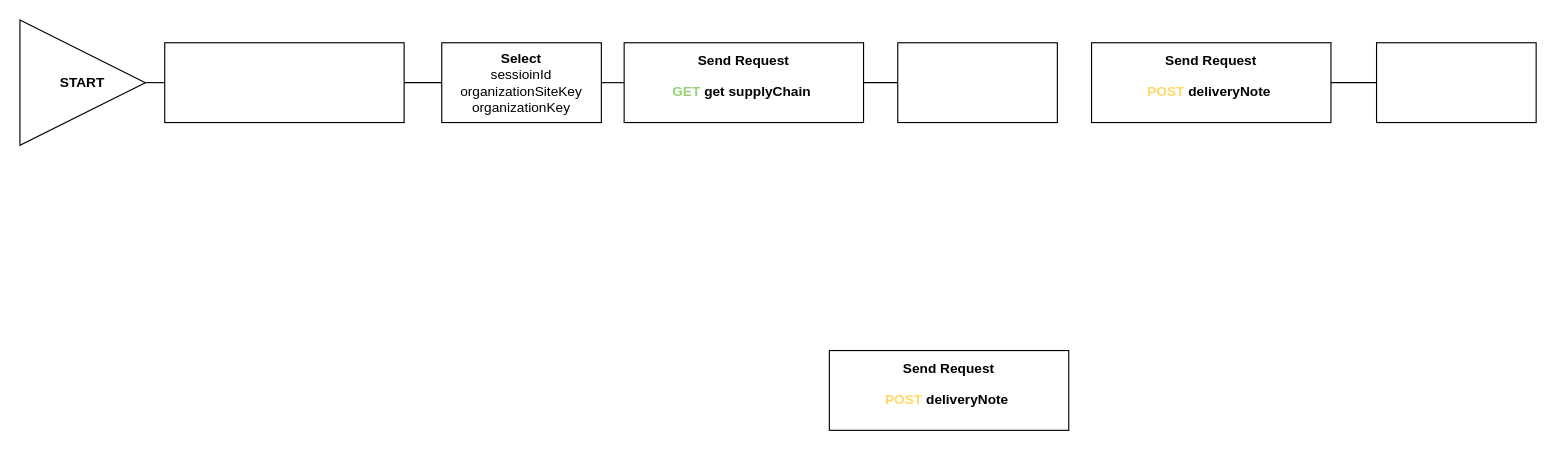
This 1556x450 diagram has some shape labels left out. Here are the shapes that lost their labels. From the top down, the centre of each, then its label:
(x=284, y=82): Send Request POST post Login
(x=977, y=82): Select consignorkey carrierkey consigneekey
(x=1455, y=82): Select deliveryNoteKey
